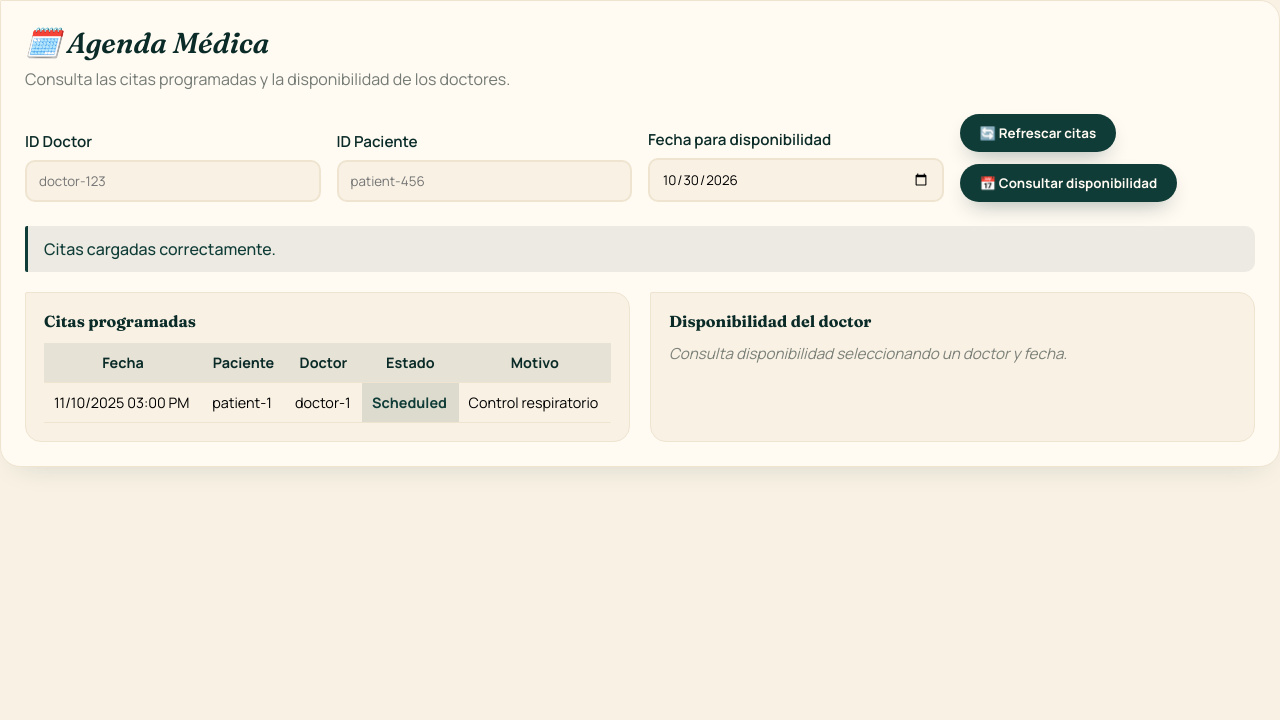
AppointmentCalendar component › consulta disponibilidad cuando se proporciona doctorId
This screenshot has width=1280, height=720.
Type "doctor-9" into the field with placeholder "doctor-123" at (173, 181), box [25,160,320,202]
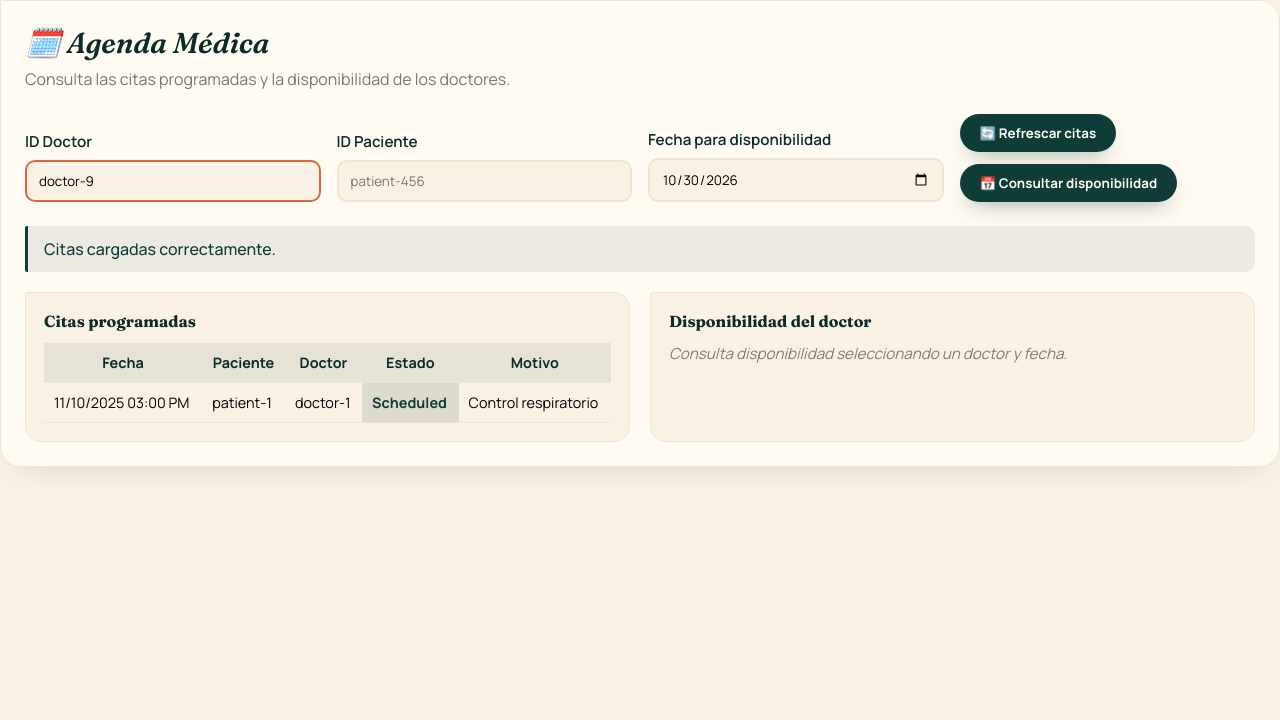
Click the button "📅 Consultar disponibilidad" at (1068, 183), box [960,164,1177,202]
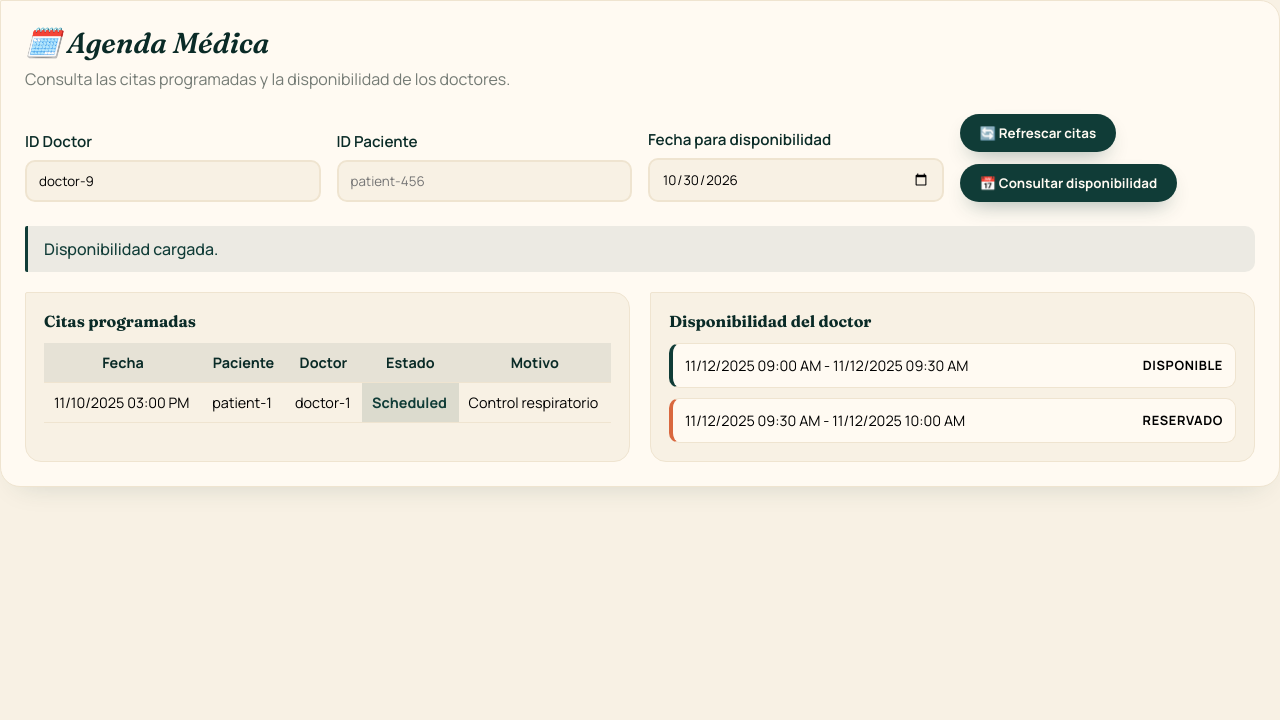
Check: the text "Disponibilidad cargada." is shown, box [25,226,1255,272]
Check: the text "Disponible" is shown, box [1143,356,1223,375]
Check: the text "Reservado" is shown, box [1143,411,1223,430]
